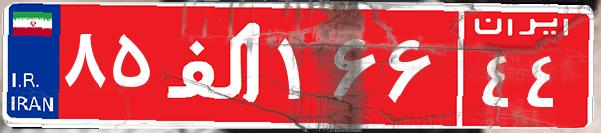1: (273, 28, 330, 110)
4: (475, 38, 525, 113), (525, 38, 570, 115)
5: (110, 28, 158, 105)
6: (385, 28, 445, 110), (330, 28, 385, 110)
8: (57, 26, 110, 107)
الف: (158, 15, 273, 115)
